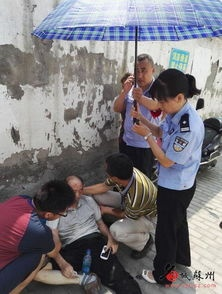falling: (43, 171, 154, 294)
